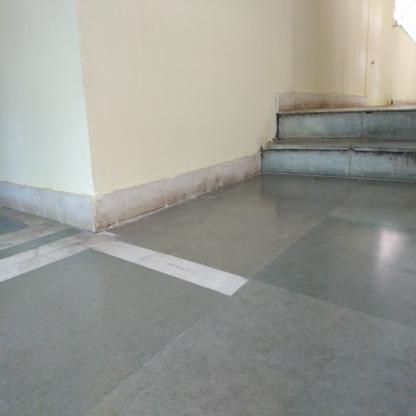stairs: (275, 105, 416, 183)
